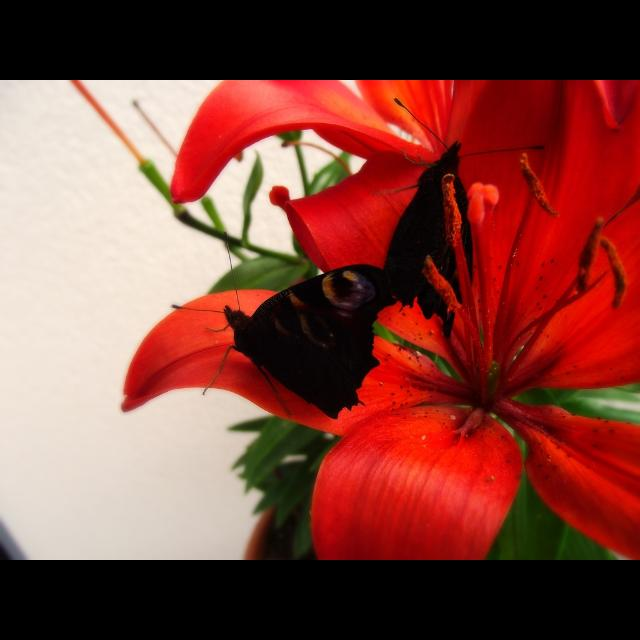Flower: (120, 80, 640, 560)
